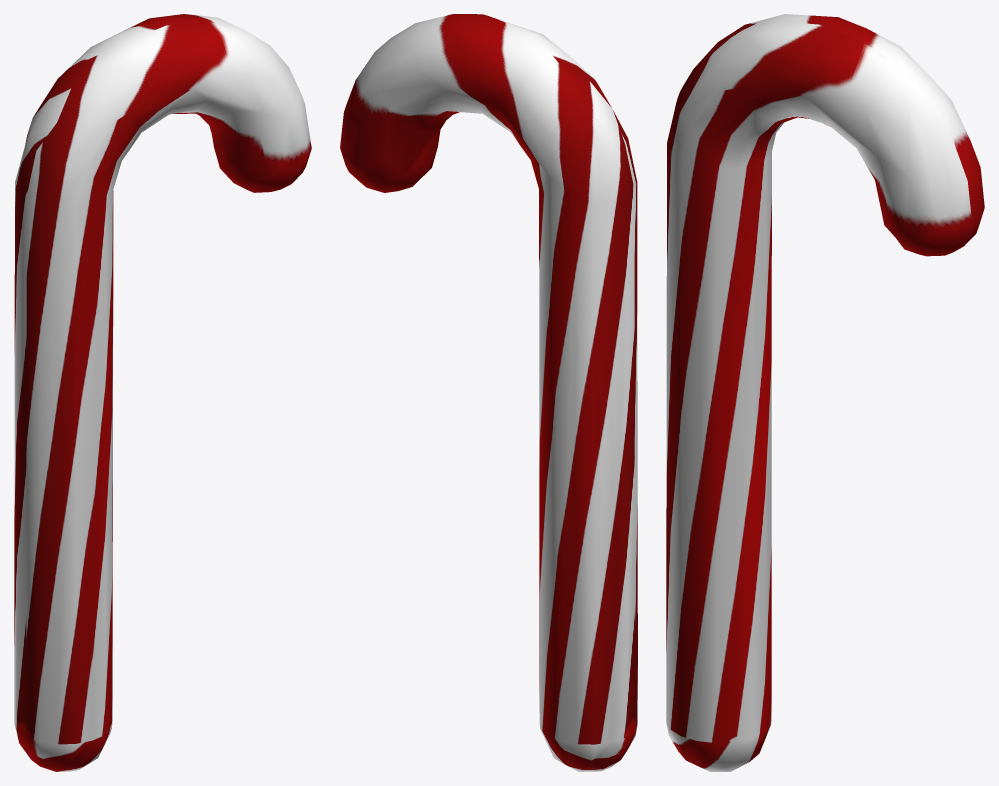
Rendered from cane.gltf.
3 renders of one model, left to right at view 1: azimuth 30°, elevation 25°; view 2: azimuth 150°, elevation 25°; view 3: azimuth 330°, elevation 25°, orthographic. The views are drawn at different scales.
Visible parts, largest first — view 1: Polygon_Reduction_1; view 2: Polygon_Reduction_1; view 3: Polygon_Reduction_1.
Part boxes in pixels (x1,y1,x2,y2): Polygon_Reduction_1: [14, 14, 311, 771]; Polygon_Reduction_1: [340, 14, 637, 771]; Polygon_Reduction_1: [666, 14, 984, 771].
Size of the model in its own units: 5.81 by 14.17 by 1.75.
Materials: 1 (1 with a texture image).
